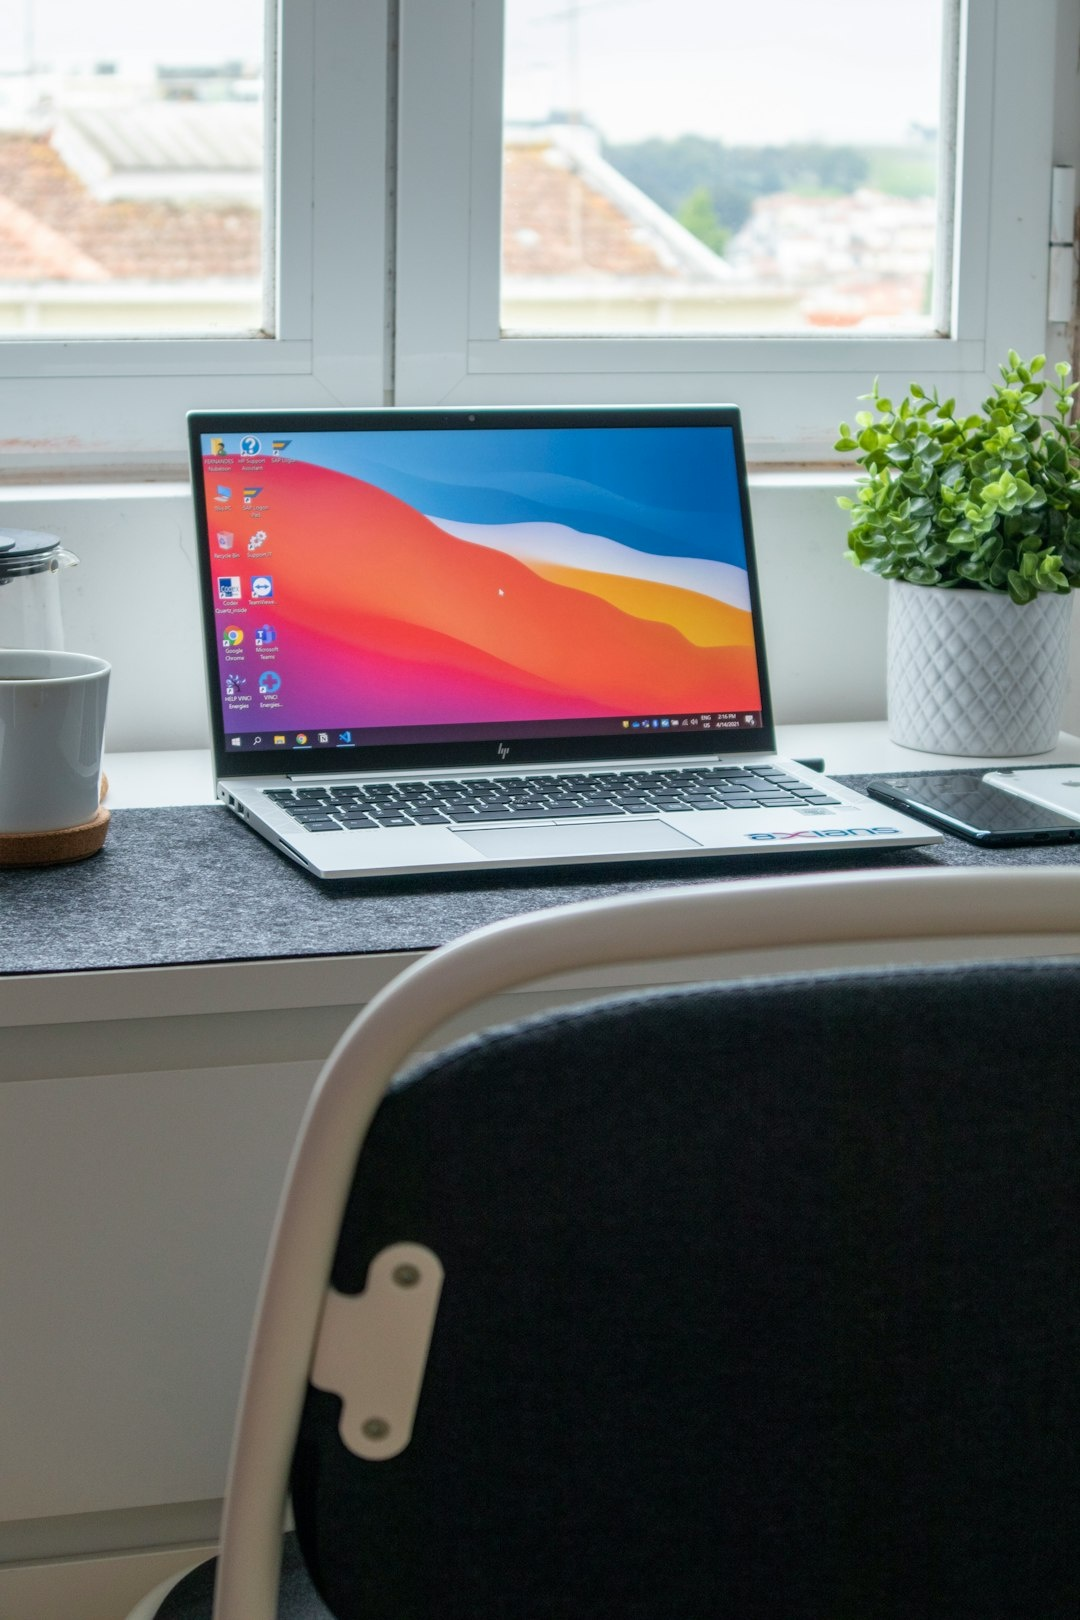laptop: (123, 347, 945, 885)
